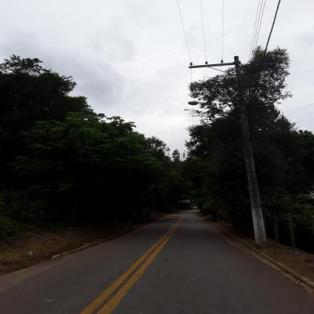Poste: (230, 55, 270, 245)
